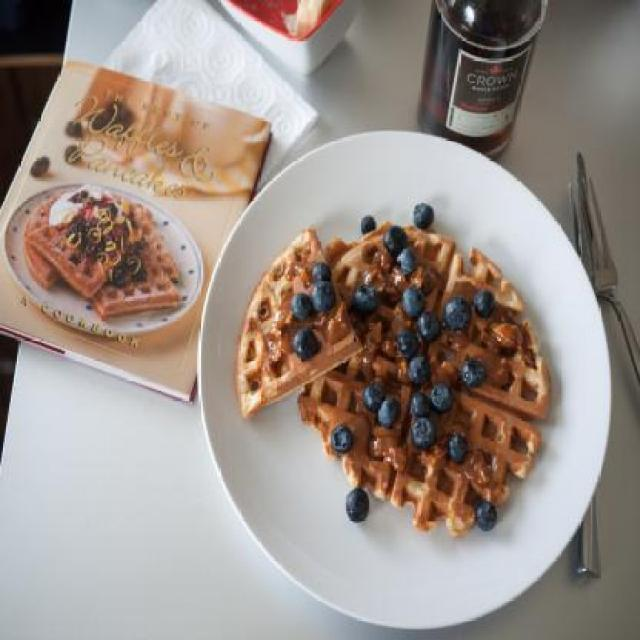Waffle: (298, 219, 554, 536), (234, 222, 363, 420), (26, 219, 142, 298), (90, 240, 182, 322), (115, 194, 178, 282), (20, 190, 74, 284)
